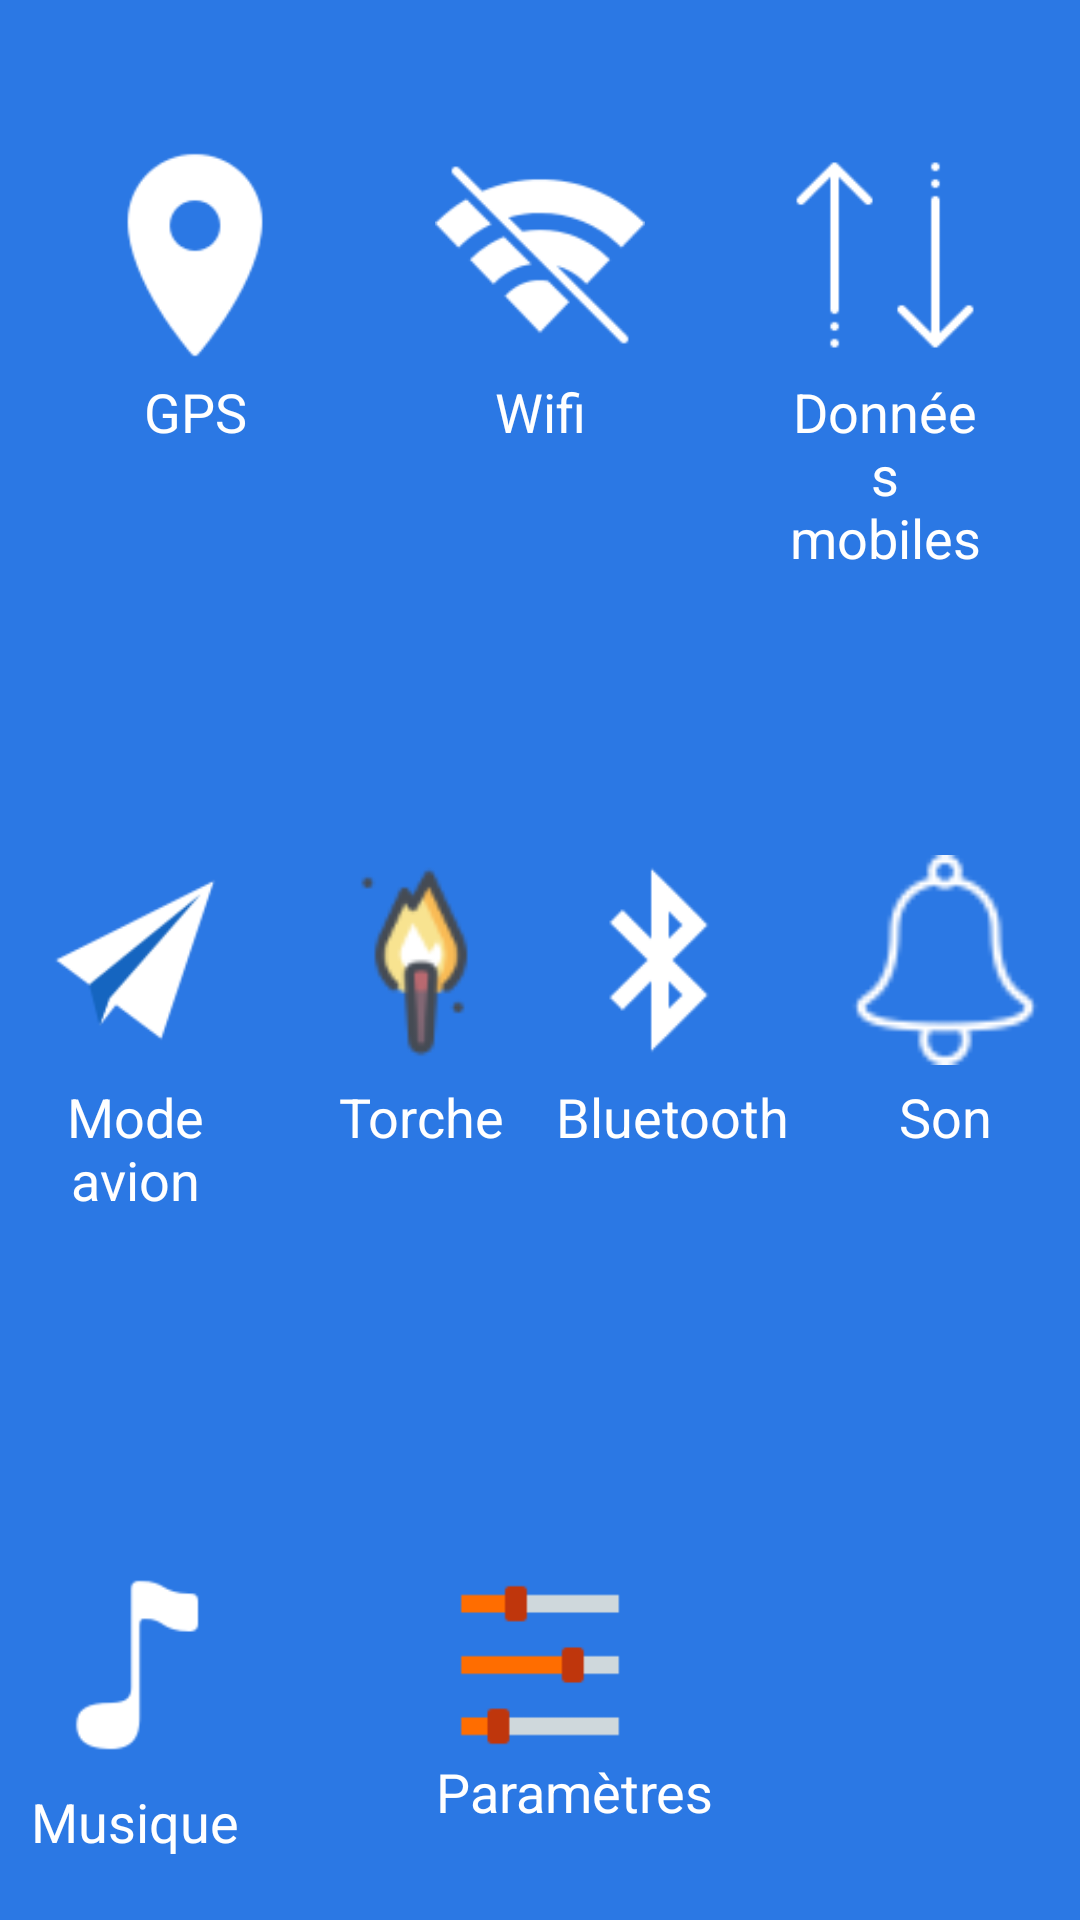

Named icons in this screenshot (1080×1920) and their bounding boxes, [x1,y1,x2,y2]:
bell: [855,855,1035,1065]
planeoff: [56,881,214,1039]
